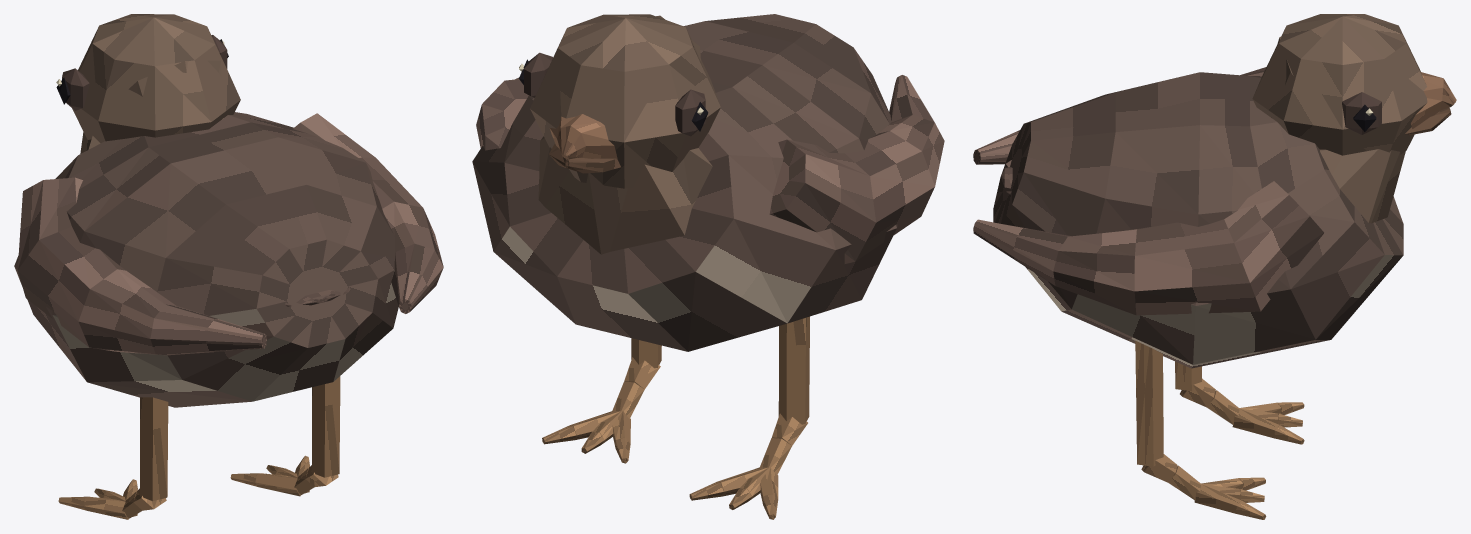
The model's file is mon_grouse_chick.glb.
3 views of the same model, side by side, from view 1: azimuth 30°, elevation 25°; view 2: azimuth 150°, elevation 25°; view 3: azimuth 270°, elevation 25° (orthographic). The views are drawn at different scales.
Visible parts, largest first — view 1: closed_body; view 2: closed_body; view 3: closed_body.
Part boxes in pixels (bbox=[...]): closed_body: bbox=[14, 14, 443, 519]; closed_body: bbox=[472, 14, 944, 519]; closed_body: bbox=[973, 14, 1456, 519].
Size of the model in its own units: 0.0813 by 0.0949 by 0.0927.
1 material, 1 textured.
